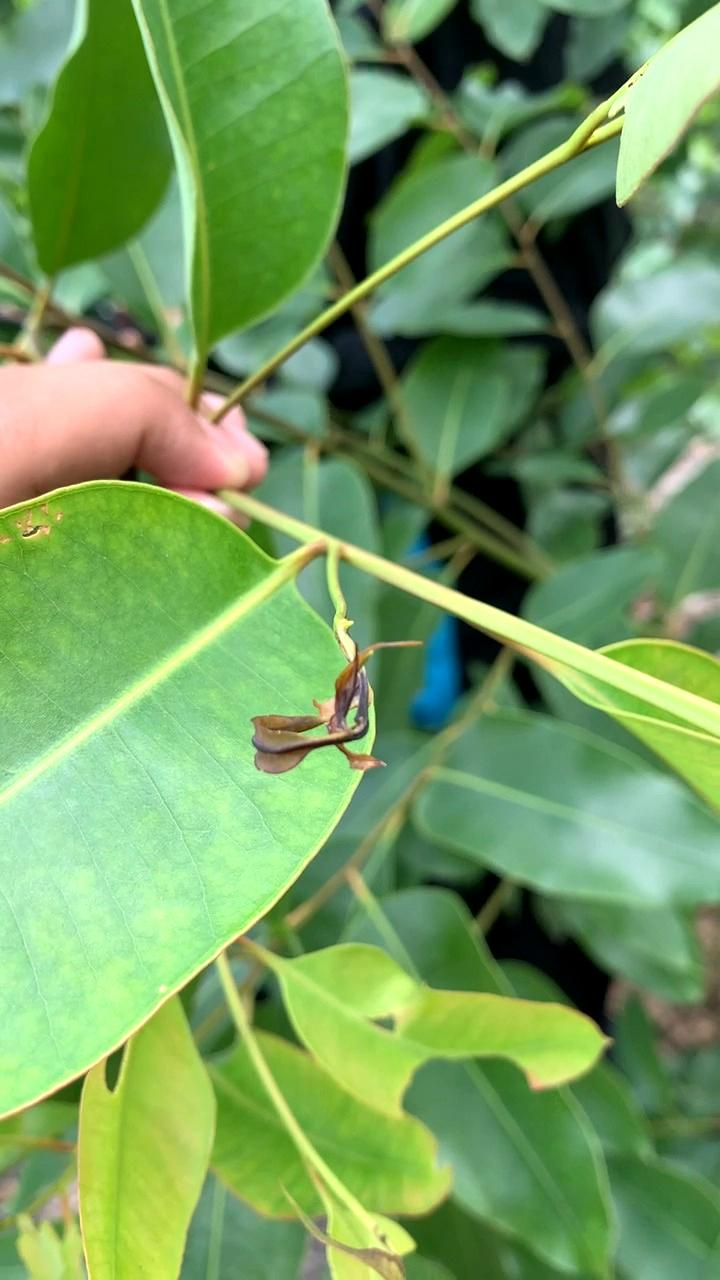Helopeltis-Withered Sprout: (255, 630, 419, 779)
